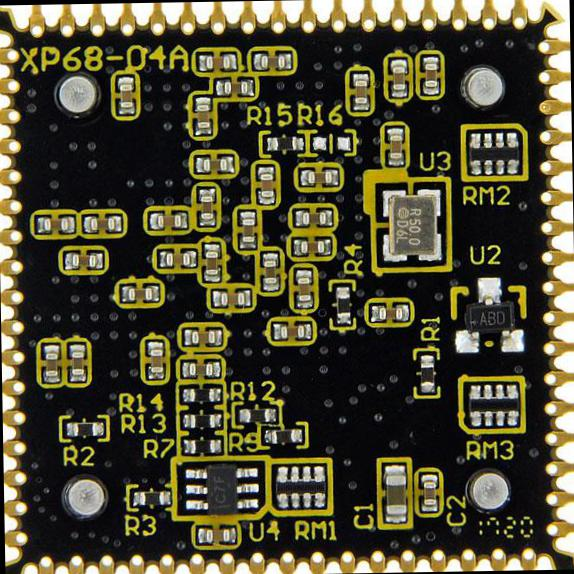Capacitor: (375, 458, 410, 526), (415, 470, 439, 516)
Connector: (531, 36, 573, 542), (22, 0, 534, 40), (0, 43, 31, 551), (32, 544, 539, 573)
IC: (369, 174, 450, 270), (447, 274, 525, 356), (173, 456, 268, 518)
Pads: (310, 128, 356, 156)
Resistor Jumper: (458, 376, 522, 434), (460, 124, 524, 180), (270, 458, 331, 512)
Resistor Network: (60, 415, 108, 440), (329, 280, 353, 327), (128, 483, 172, 508), (177, 408, 224, 431), (258, 424, 303, 448), (258, 130, 302, 154), (179, 382, 224, 405), (233, 403, 280, 425), (177, 435, 224, 454)
Unknown Unlabeled: (63, 478, 109, 519), (461, 66, 504, 109), (54, 74, 98, 116), (173, 353, 222, 385), (381, 51, 410, 104), (469, 471, 508, 508), (186, 90, 216, 138), (58, 244, 106, 274), (366, 296, 414, 326), (31, 208, 76, 238), (206, 282, 251, 312), (140, 333, 168, 380), (416, 50, 442, 100), (77, 211, 125, 238), (190, 150, 235, 178), (288, 232, 333, 260), (179, 322, 224, 350), (250, 46, 295, 74), (193, 46, 237, 74), (345, 66, 371, 113), (115, 279, 160, 306), (35, 339, 62, 384), (199, 238, 223, 288), (266, 316, 314, 341), (192, 522, 240, 547), (143, 206, 189, 232), (288, 264, 314, 310), (111, 71, 137, 117), (65, 338, 89, 387), (414, 348, 439, 395), (156, 244, 200, 270), (258, 250, 284, 294), (380, 122, 407, 164), (208, 76, 254, 100), (295, 164, 340, 188), (252, 162, 278, 203), (195, 184, 219, 228), (236, 206, 258, 250), (290, 205, 332, 228)
